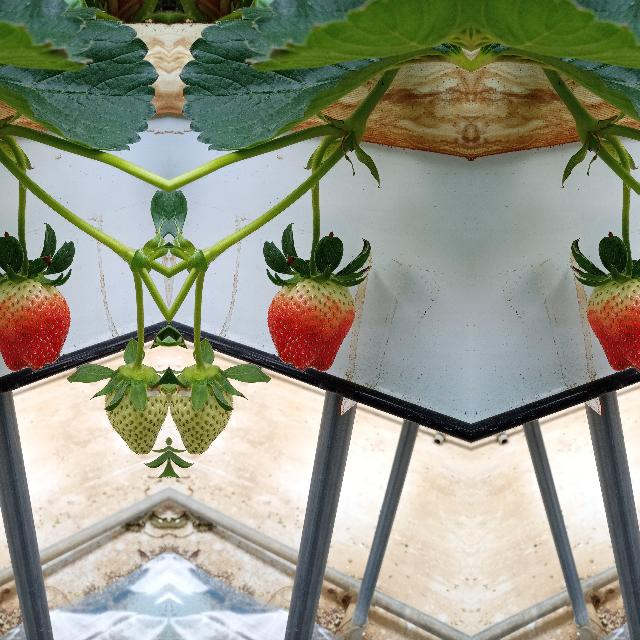Health_25: (168, 354, 236, 456), (100, 354, 168, 456)
Health_75: (266, 277, 354, 371), (0, 277, 70, 371), (586, 277, 640, 371)
